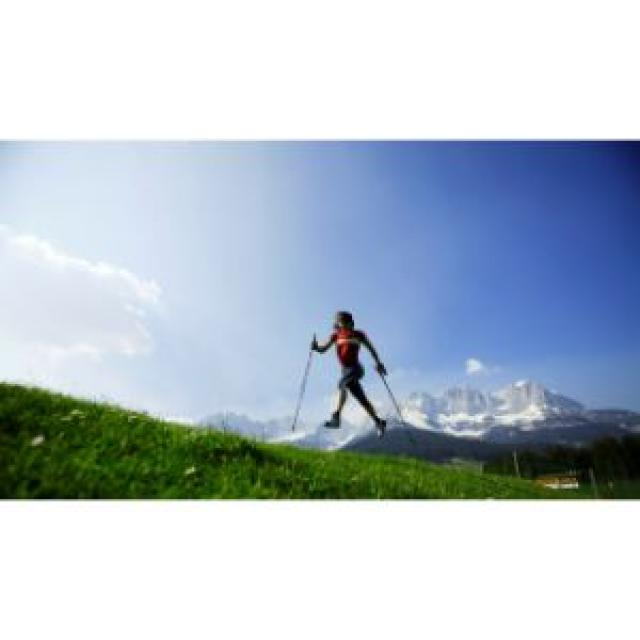nonfall: (294, 307, 402, 433)
